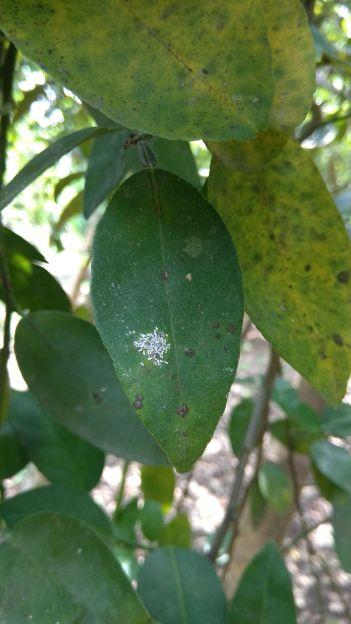Myzus persicae: (134, 327, 169, 364)
